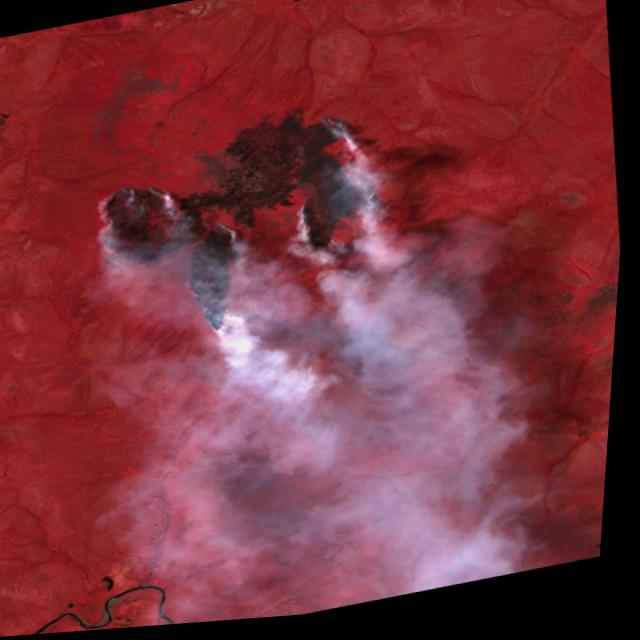fire: (80, 98, 420, 362)
